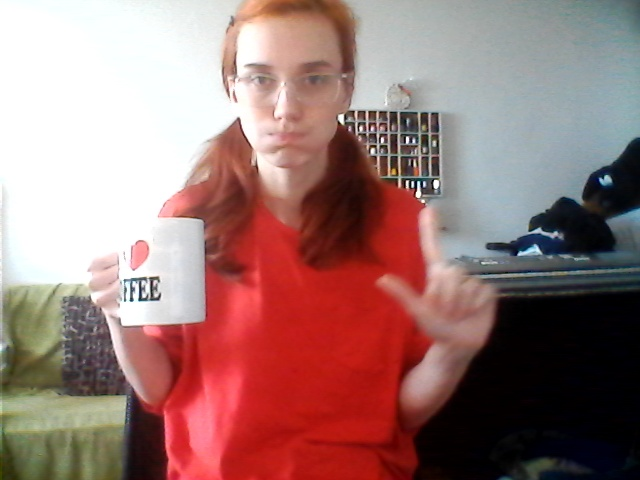l: (371, 205, 502, 350)
